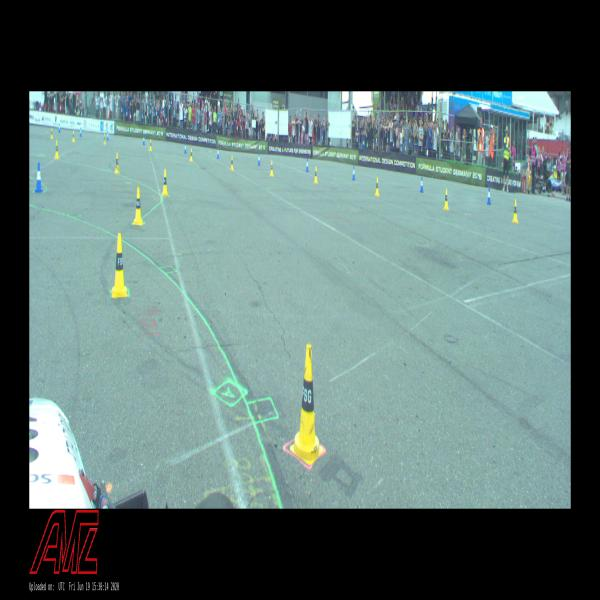blue_cone: (35, 162, 42, 193), (486, 187, 491, 204), (420, 176, 423, 192), (352, 165, 355, 180), (306, 158, 309, 172), (79, 127, 82, 137), (106, 130, 109, 140), (258, 153, 260, 165), (143, 134, 145, 146), (184, 144, 186, 154), (217, 148, 219, 158), (58, 124, 60, 132)
yellow_cone: (290, 344, 323, 465), (112, 233, 128, 297), (134, 187, 144, 225), (162, 169, 169, 196), (512, 200, 518, 223), (115, 152, 120, 172), (54, 140, 59, 159), (444, 188, 448, 210), (375, 177, 379, 196), (314, 167, 318, 184), (230, 155, 234, 170), (270, 161, 274, 176), (149, 138, 152, 151), (72, 130, 75, 142), (190, 148, 192, 161), (51, 127, 53, 139), (104, 134, 106, 144)
